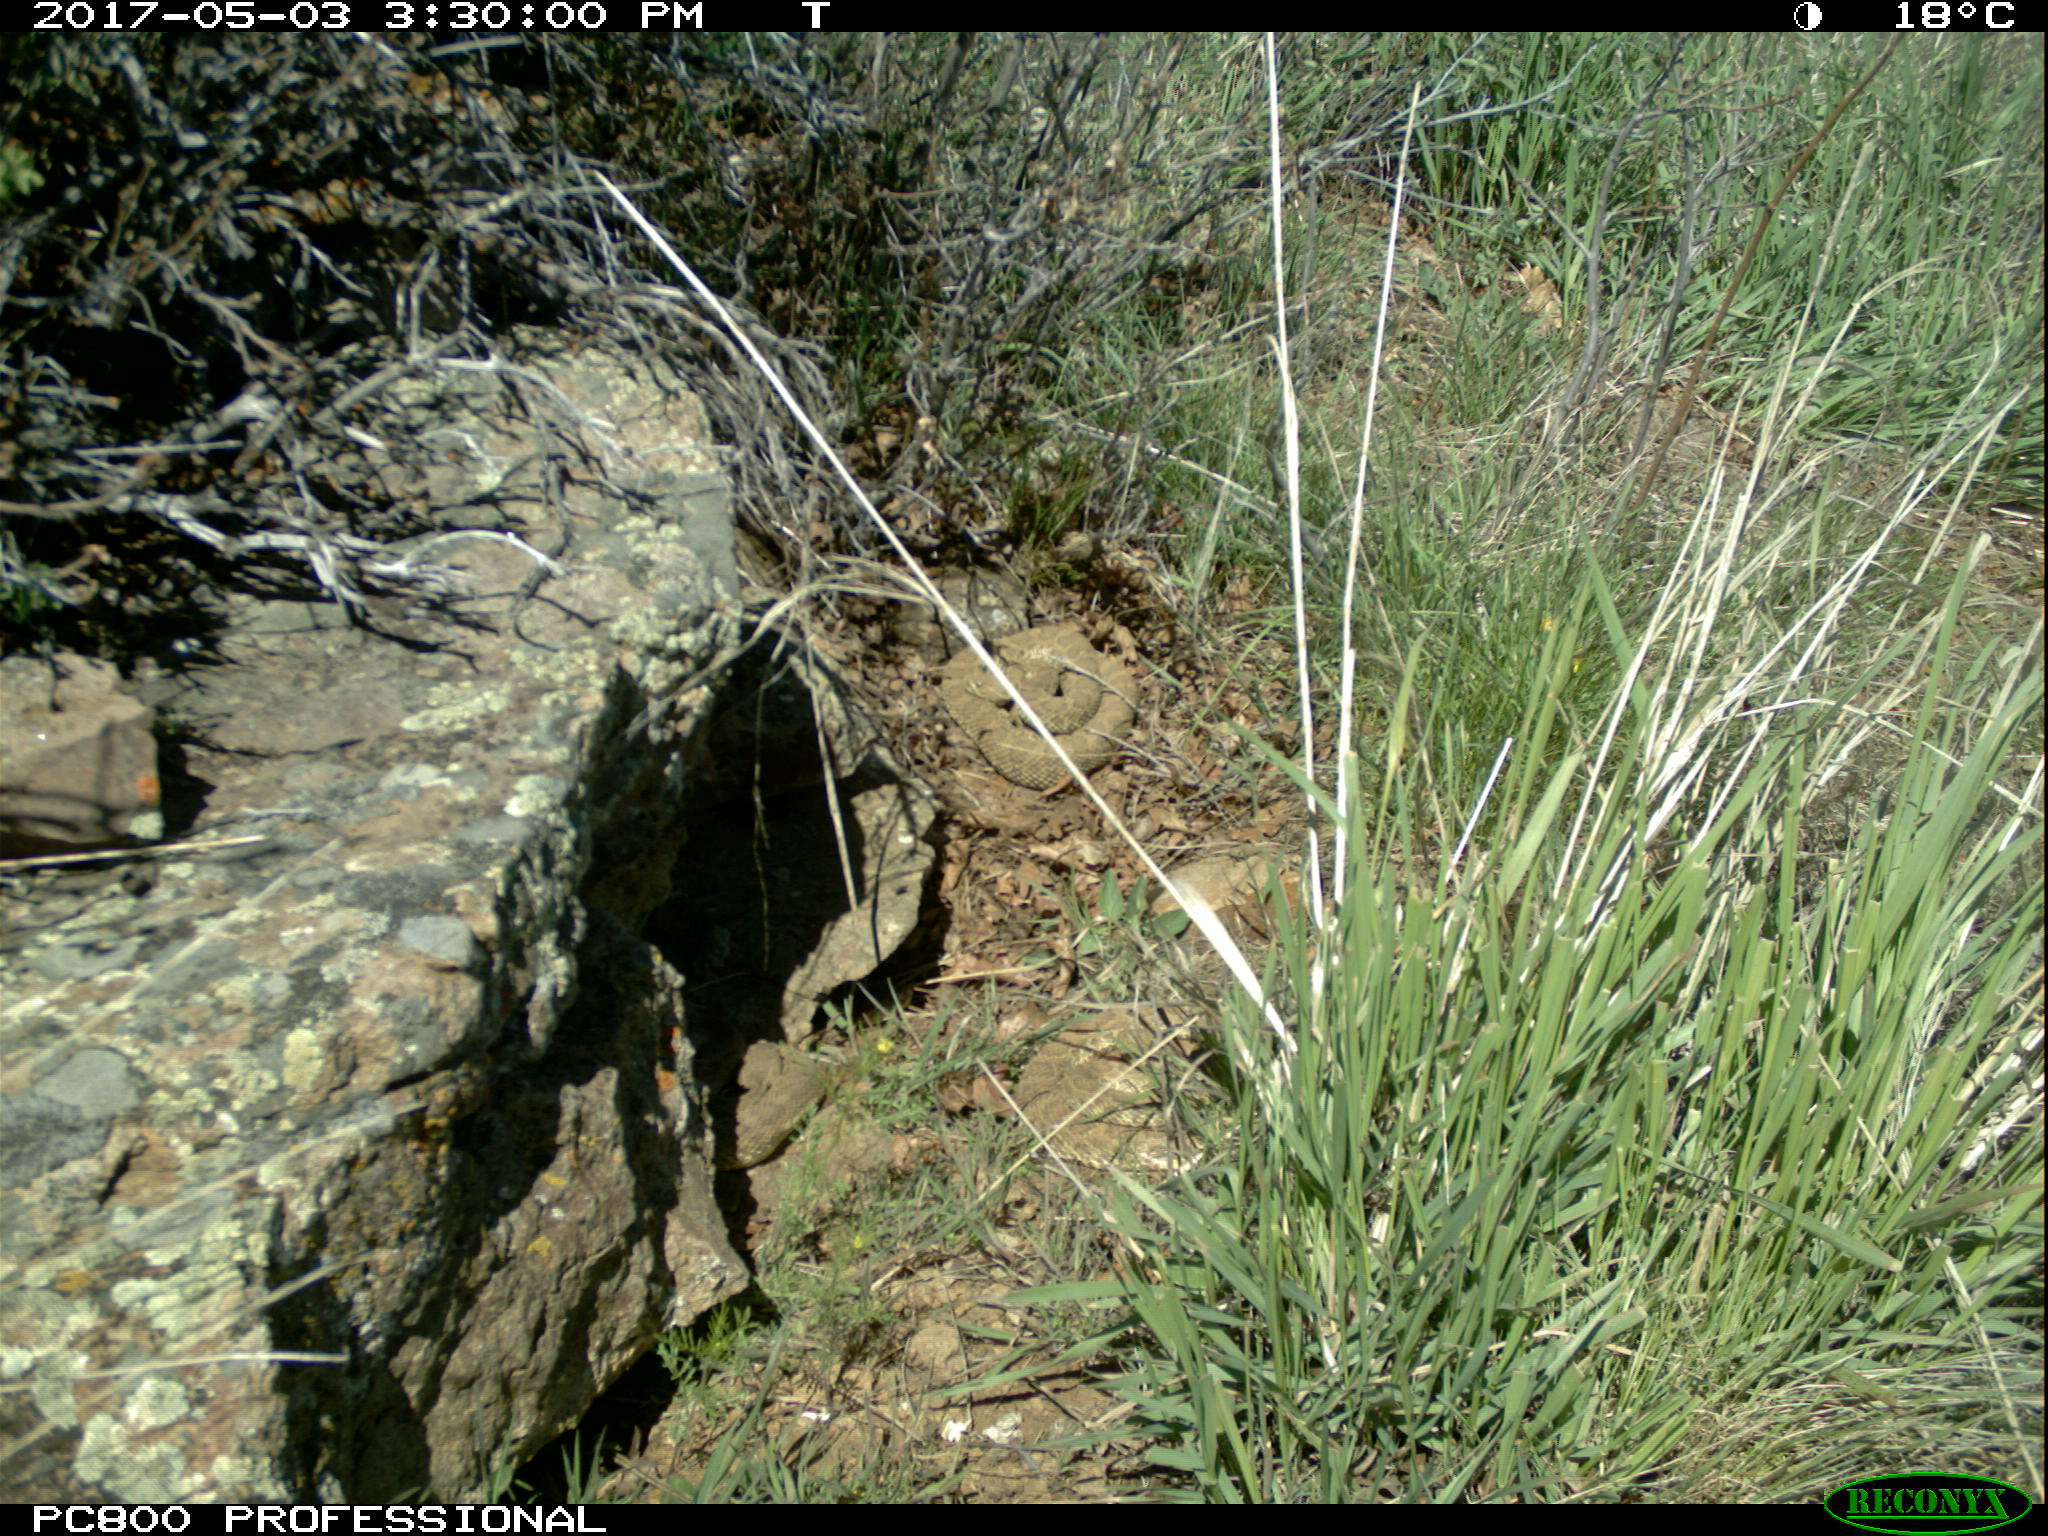snake: (1009, 1002, 1237, 1179), (937, 628, 1142, 786), (710, 1042, 848, 1181)
